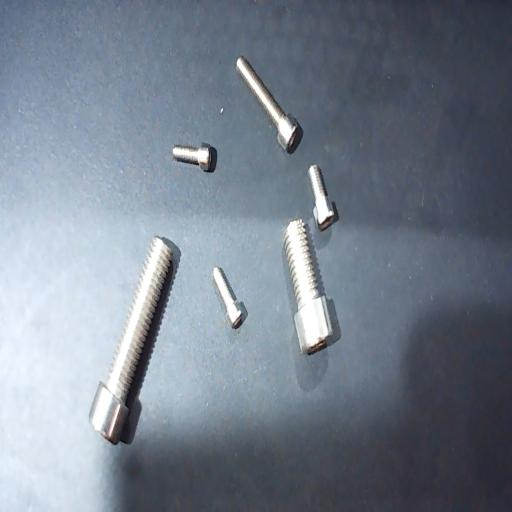screw: (89, 236, 173, 445), (283, 218, 333, 356), (236, 55, 297, 152), (213, 266, 244, 329), (308, 164, 334, 232), (172, 142, 211, 171)
